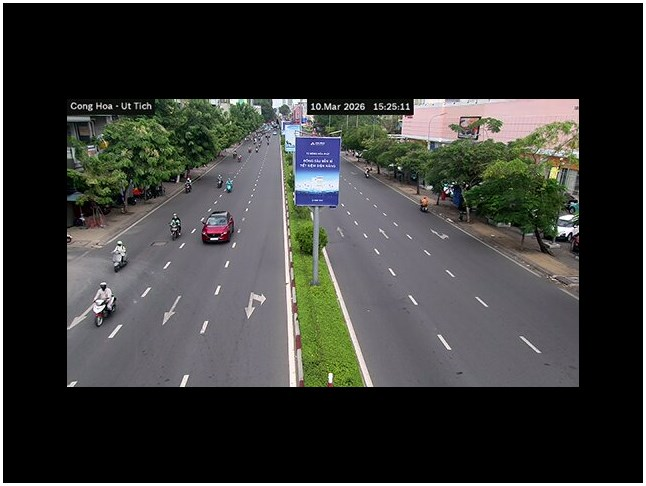car: (200, 211, 234, 243)
motorbike: (92, 289, 117, 327), (92, 299, 115, 327), (111, 241, 128, 272), (169, 213, 182, 239)
